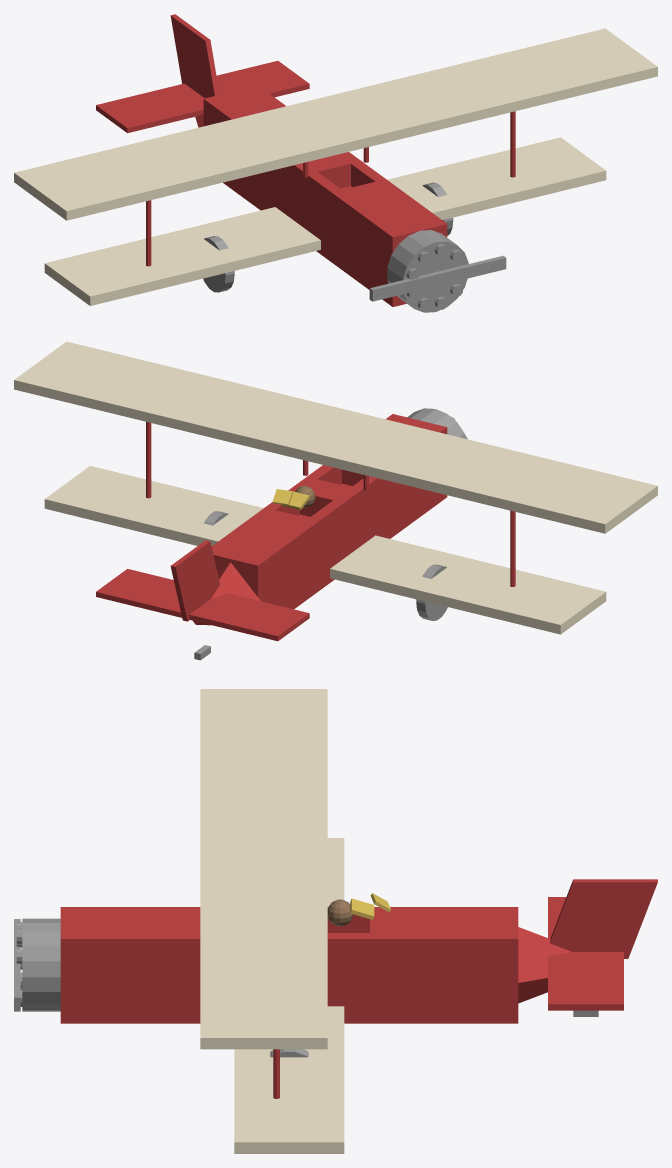
3 renders of one model, top to bottom at view 1: azimuth 30°, elevation 25°; view 2: azimuth 150°, elevation 25°; view 3: azimuth 270°, elevation 25°, orthographic. The views are drawn at different scales.
Parts seen in each view (by area): view 1: Nu_D36, Pervane; view 2: Nu_D36; view 3: Nu_D36.
Part boxes in pixels (bbox=[...]): Nu_D36: bbox=[14, 14, 657, 312]; Pervane: bbox=[369, 255, 506, 301]; Nu_D36: bbox=[14, 341, 657, 660]; Nu_D36: bbox=[16, 689, 657, 1153].
Bounding box in the file's own units: 9.74 × 2.37 × 7.6.
